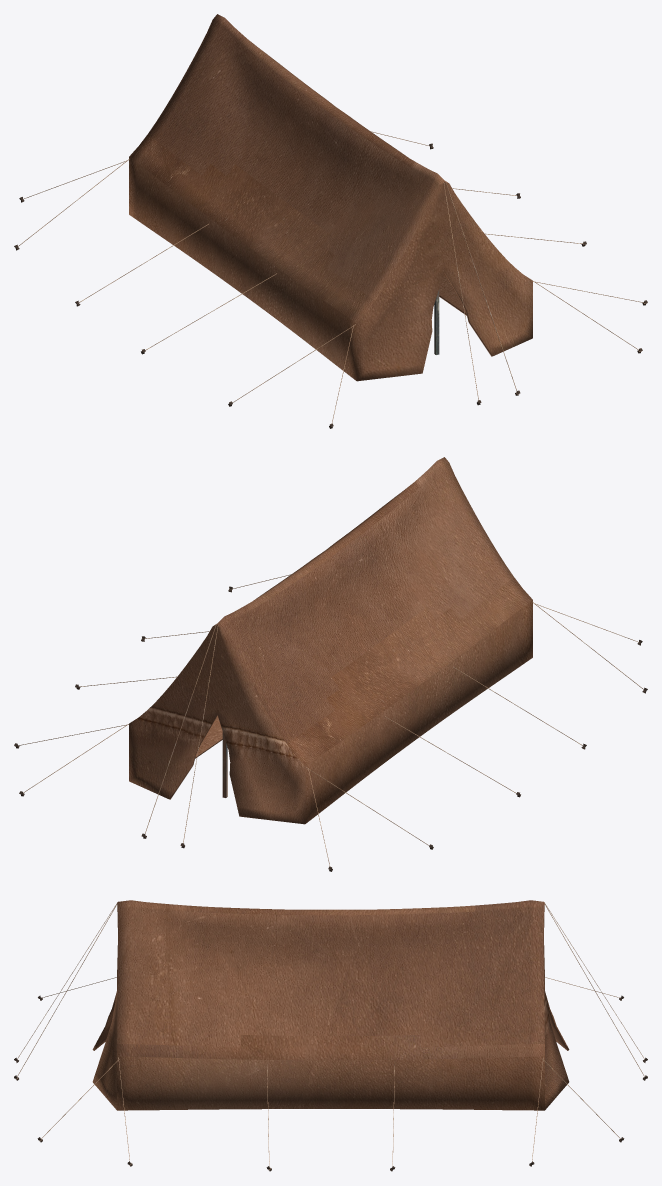
Rendered from tent.glb.
The picture shows the model from 3 angles, top to bottom: view 1: azimuth 30°, elevation 25°; view 2: azimuth 150°, elevation 25°; view 3: azimuth 270°, elevation 25°; orthographic projection. The views are drawn at different scales.
Visible parts, largest first — view 1: cloth, Plane.002; view 2: cloth, Plane.002; view 3: cloth, Plane.002.
Part boxes in pixels (x1,y1,x2,y2): cloth: [129, 14, 532, 381]; Plane.002: [18, 131, 643, 423]; cloth: [129, 457, 532, 824]; Plane.002: [18, 574, 643, 866]; cloth: [92, 900, 569, 1110]; Plane.002: [17, 903, 644, 1165].
Bounding box in the file's own units: 9.68 × 3.8 × 12.73.
4 materials, 4 textured.
